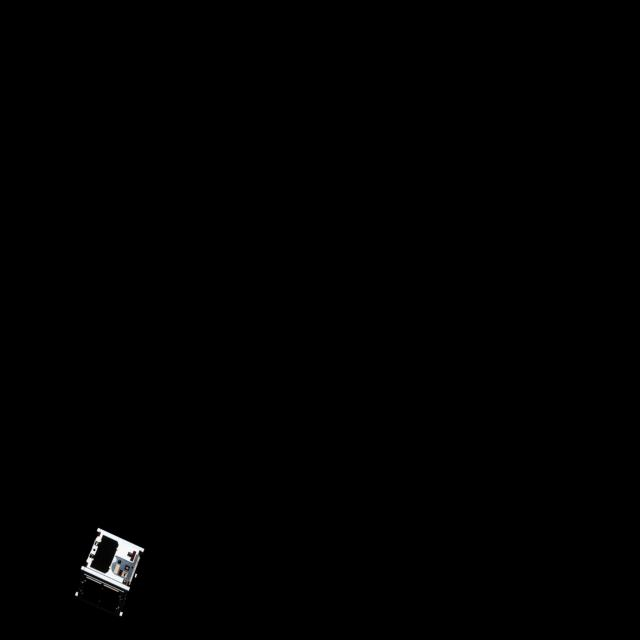medium_debris: (67, 522, 145, 626)
